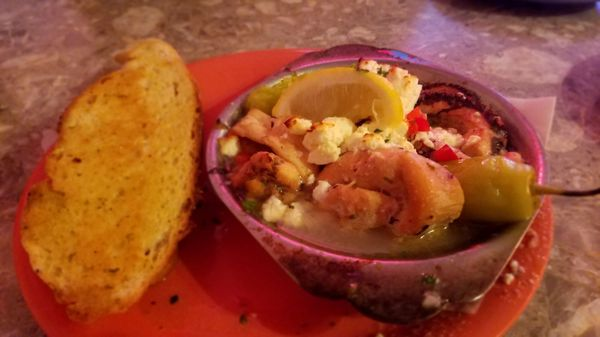soup: (16, 40, 204, 323)
sushi: (203, 51, 544, 325)
